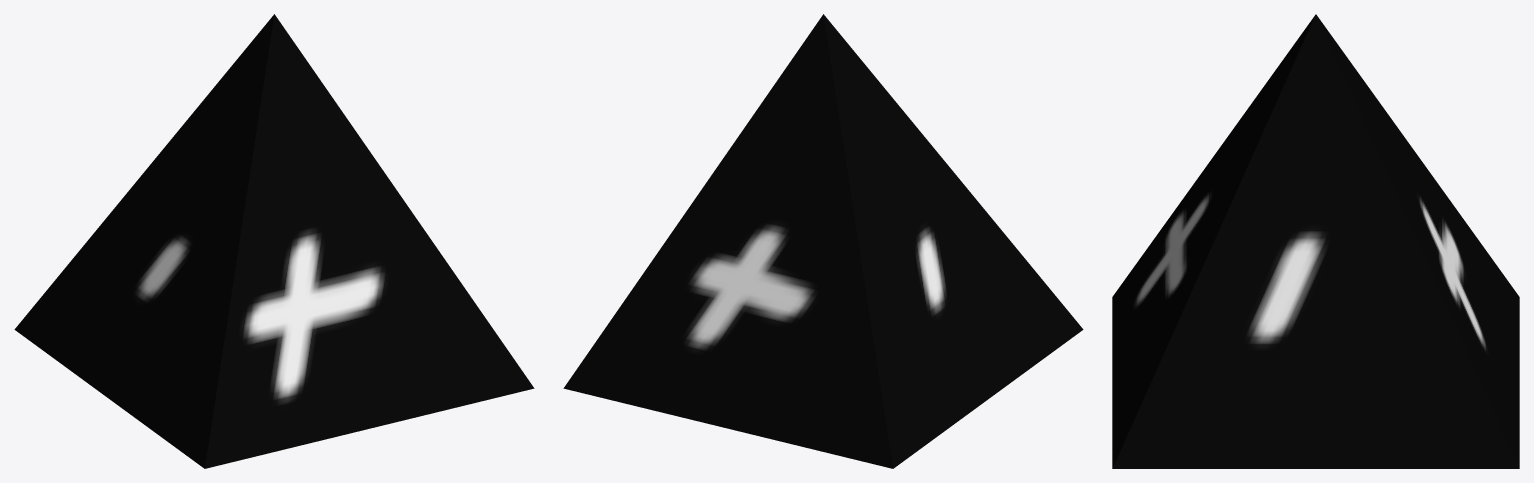
The model's file is triangle.glb.
3 renders of one model, left to right at view 1: azimuth 30°, elevation 25°; view 2: azimuth 150°, elevation 25°; view 3: azimuth 270°, elevation 25°, orthographic. The views are drawn at different scales.
Visible parts, largest first — view 1: Tirangle; view 2: Tirangle; view 3: Tirangle.
Part boxes in pixels (x1,y1,x2,y2): Tirangle: (14,14,534,468); Tirangle: (563,14,1083,468); Tirangle: (1112,14,1519,468).
Size of the model in its own units: 2 by 2 by 2.
1 material, 1 textured.
